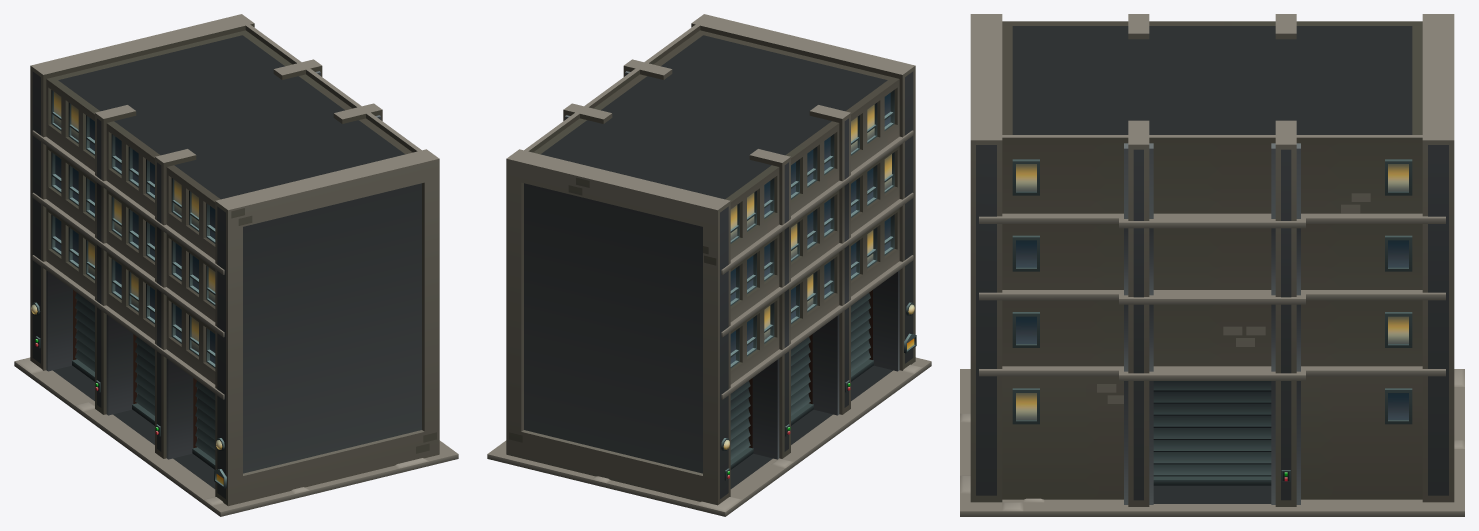
File: Building_15B.fbx
3 renders of one model, left to right at view 1: azimuth 30°, elevation 25°; view 2: azimuth 150°, elevation 25°; view 3: azimuth 270°, elevation 25°, orthographic. The views are drawn at different scales.
Parts seen in each view (by area): view 1: Building_15B, Window_Lights_15B, Addon_Gate_15B.R, Addon_Gate_15B.L, Addon_Gate_15B.M; view 2: Building_15B, Window_Lights_15B, Addon_Gate_15B.L, Addon_Gate_15B.R, Addon_Gate_15B.M; view 3: Building_15B, Window_Lights_15B.
Boxes of the visible parts, x1,y1,x2,y2 form: Building_15B: [14, 14, 458, 516]; Window_Lights_15B: [54, 92, 215, 352]; Addon_Gate_15B.R: [192, 381, 215, 469]; Addon_Gate_15B.L: [72, 293, 94, 381]; Addon_Gate_15B.M: [132, 337, 154, 425]; Building_15B: [487, 14, 931, 516]; Window_Lights_15B: [730, 104, 891, 339]; Addon_Gate_15B.L: [730, 381, 753, 469]; Addon_Gate_15B.R: [851, 293, 873, 381]; Addon_Gate_15B.M: [791, 337, 813, 425]; Building_15B: [960, 14, 1464, 516]; Window_Lights_15B: [1016, 164, 1408, 420].
Bounding box in the file's own units: 1600 × 1930 × 2400.
